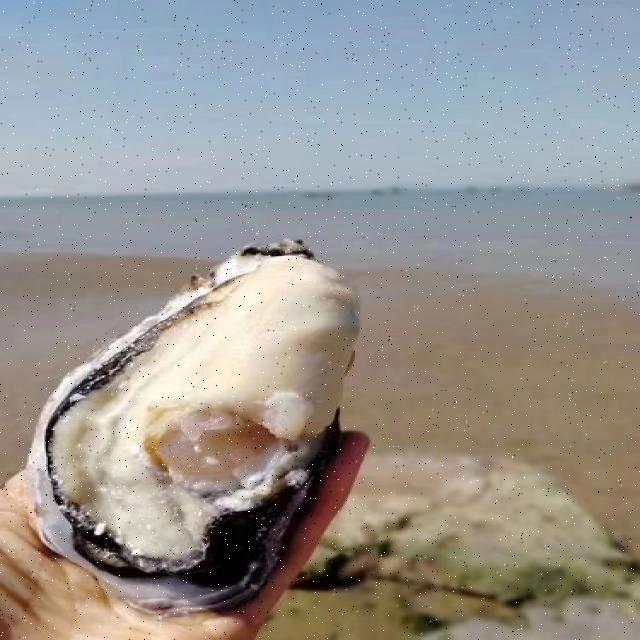Oyster-Open: (25, 239, 362, 613)
